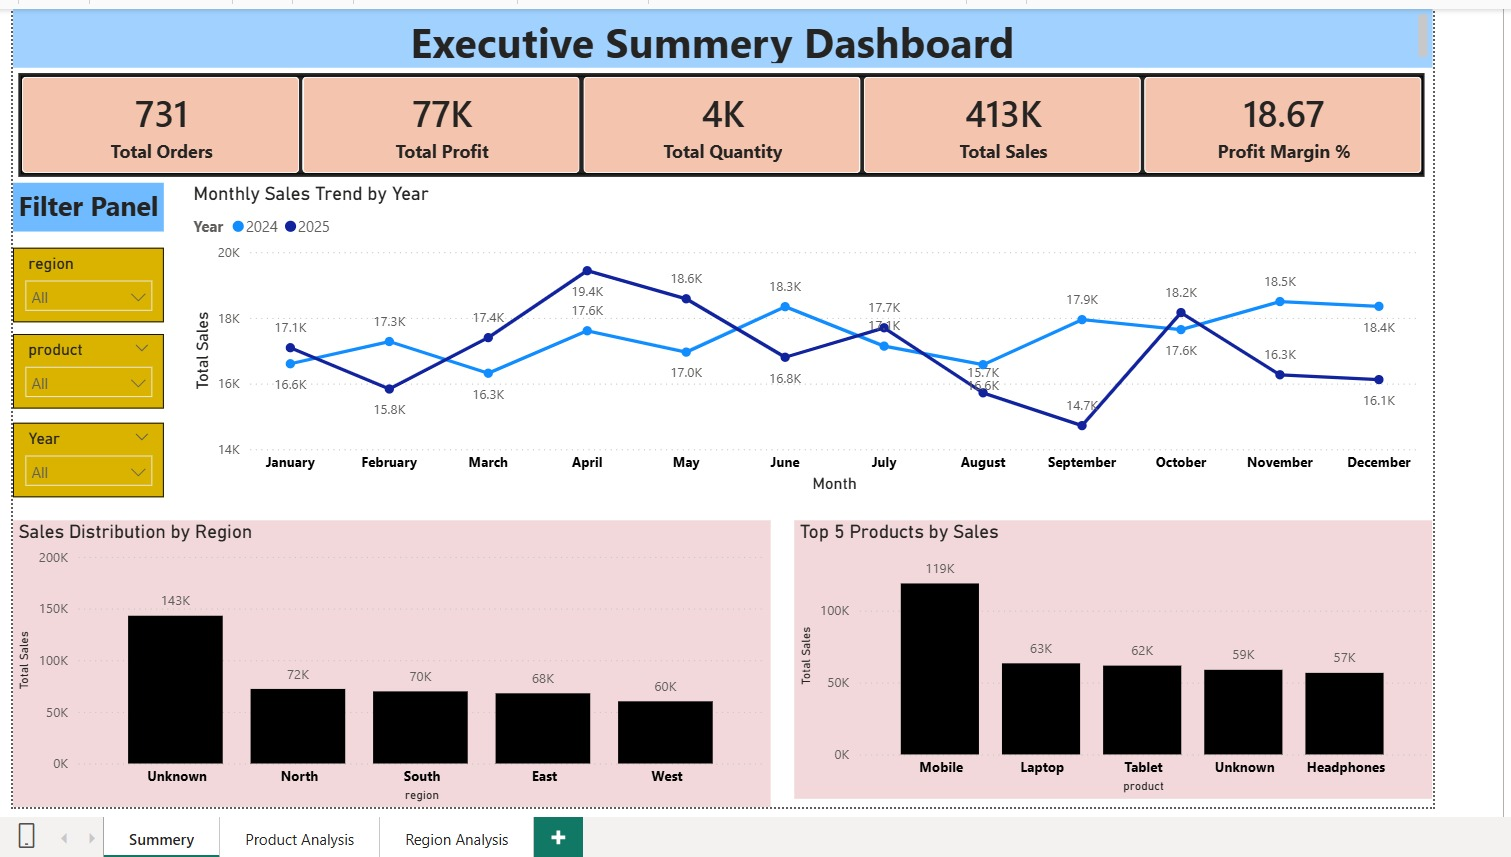

What the dashboard file says about the page in this screenshot:
{"tool":"powerbi","page":{"name":"Summery","canvas":[1280,720],"ordinal":0},"visuals":[{"type":"textbox","box":[0,0,1280.2,53.5],"z":0},{"type":"cardVisual","fields":{"Data":["cleaned_sales_data.Total Orders","cleaned_sales_data.Total Profit","cleaned_sales_data.Total Quantity","cleaned_sales_data.Total Sales","cleaned_sales_data.Profit Margin %"]},"box":[0,53.5,1280.2,103.5],"z":1000},{"type":"lineChart","title":"Monthly Sales Trend by Year","fields":{"Category":["cleaned_sales_data.order_date.Variation.Date Hierarchy.Month"],"Y":["cleaned_sales_data.Total Sales"],"Series":["cleaned_sales_data.order_date.Variation.Date Hierarchy.Year"]},"box":[157.8,156.7,1114.7,284],"z":2000},{"type":"clusteredColumnChart","title":"Sales Distribution by Region","fields":{"Category":["cleaned_sales_data.region"],"Y":["cleaned_sales_data.Total Sales"]},"box":[0,461.1,683.4,259.3],"z":3000},{"type":"clusteredColumnChart","title":"Top 5 Products by Sales","fields":{"Category":["cleaned_sales_data.product"],"Y":["cleaned_sales_data.Total Sales"]},"box":[704.7,460.5,575.6,251.2],"z":4000},{"type":"slicer","fields":{"Values":["cleaned_sales_data.region"]},"box":[0,215.1,136,67.4],"z":5000},{"type":"slicer","fields":{"Values":["cleaned_sales_data.product"]},"box":[0,293,136,67.4],"z":6000},{"type":"slicer","fields":{"Values":["cleaned_sales_data.order_date.Variation.Date Hierarchy.Year"]},"box":[0,373.3,136,67.4],"z":7000},{"type":"textbox","box":[0,157,136,44.2],"z":8000}]}

Visuals, with their boxes on the page's 1280x720 design canvas (x1, y1, x2, y2). These are canvas units, not pixel positions in the 1511x857 screenshot, which may show the page scaled, cropped or inside an application window:
textbox: 0:0:1280:54
cardVisual - cleaned_sales_data.Total Orders x cleaned_sales_data.Total Profit: 0:54:1280:157
"Monthly Sales Trend by Year" lineChart: 158:157:1272:441
"Sales Distribution by Region" clusteredColumnChart: 0:461:683:720
"Top 5 Products by Sales" clusteredColumnChart: 705:460:1280:712
slicer - cleaned_sales_data.region: 0:215:136:282
slicer - cleaned_sales_data.product: 0:293:136:360
slicer - cleaned_sales_data.order_date.Variation.Date Hierarchy.Year: 0:373:136:441
textbox: 0:157:136:201
